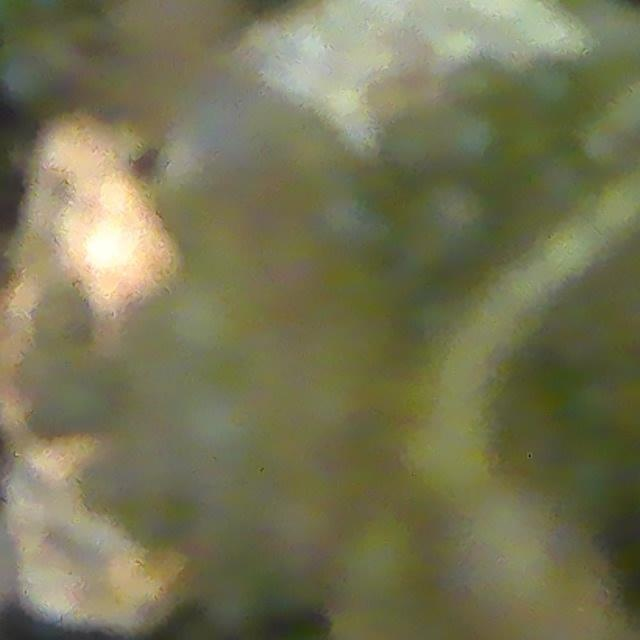SeaGrape: (403, 174, 497, 270), (433, 97, 512, 176), (516, 56, 582, 121)
